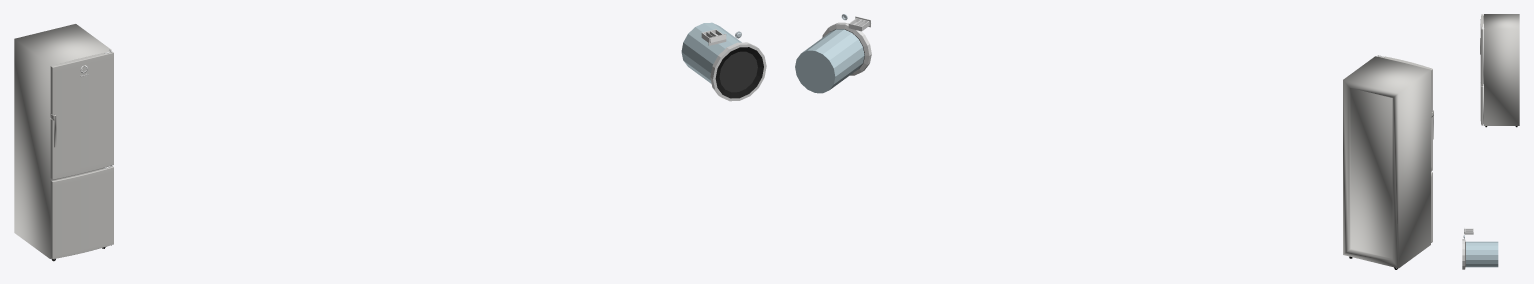
Rendered from refrigerator.glb.
The picture shows the model from 3 angles, left to right: view 1: azimuth 30°, elevation 25°; view 2: azimuth 150°, elevation 25°; view 3: azimuth 270°, elevation 25°; orthographic projection. The views are drawn at different scales.
Parts seen in each view (by area): view 1: body, top_door, bottom_door, KA-F600_Washer_V1_Door, KA-F600_Washer_V1_Tub; view 2: body, KA-F600_Washer_V1_Tub, KA-F600_Washer_V1_Door; view 3: body, KA-F600_Washer_V1_Tub, top_door, bottom_door, KA-F600_Washer_V1_Door, KA-F600_Washer_V1_Tray, top_rubber.
Part boxes in pixels (left/top/right/bottom): body: left=14, top=24, right=111, bottom=258; top_door: left=50, top=51, right=113, bottom=179; bottom_door: left=50, top=166, right=113, bottom=259; KA-F600_Washer_V1_Door: left=710, top=42, right=766, bottom=101; KA-F600_Washer_V1_Tub: left=681, top=22, right=741, bottom=83; body: left=1343, top=56, right=1430, bottom=268; KA-F600_Washer_V1_Tub: left=795, top=29, right=864, bottom=93; KA-F600_Washer_V1_Door: left=822, top=22, right=871, bottom=75; body: left=1484, top=14, right=1519, bottom=125; KA-F600_Washer_V1_Tub: left=1466, top=241, right=1498, bottom=267; top_door: left=1480, top=14, right=1483, bottom=85; bottom_door: left=1480, top=81, right=1483, bottom=125; KA-F600_Washer_V1_Door: left=1462, top=239, right=1465, bottom=269; KA-F600_Washer_V1_Tray: left=1464, top=228, right=1473, bottom=234; top_rubber: left=1483, top=16, right=1483, bottom=84.
Size of the model in its own units: 6.87 by 1.88 by 0.9834.
7 materials, 1 textured.
